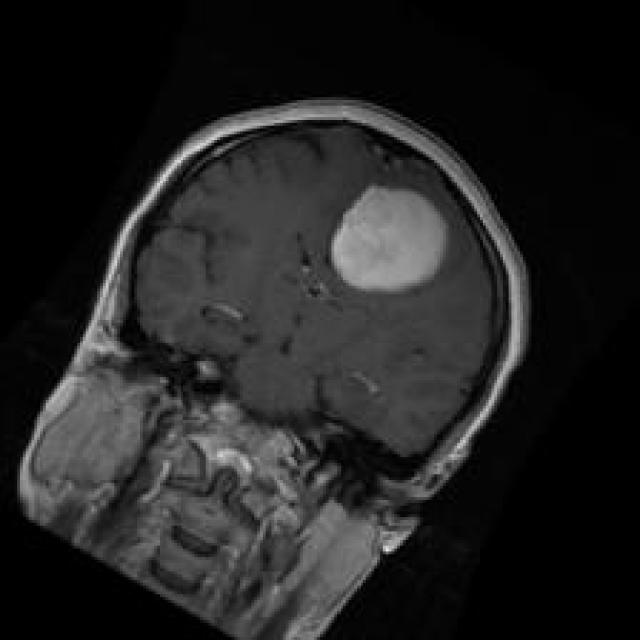meningioma_tumor: (320, 169, 462, 304)
